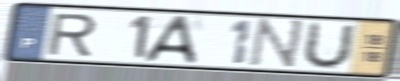1: (229, 19, 253, 67), (128, 15, 152, 62)
A: (141, 14, 200, 65)
N: (245, 17, 308, 72)
R: (45, 12, 99, 57)
U: (299, 20, 358, 71)
